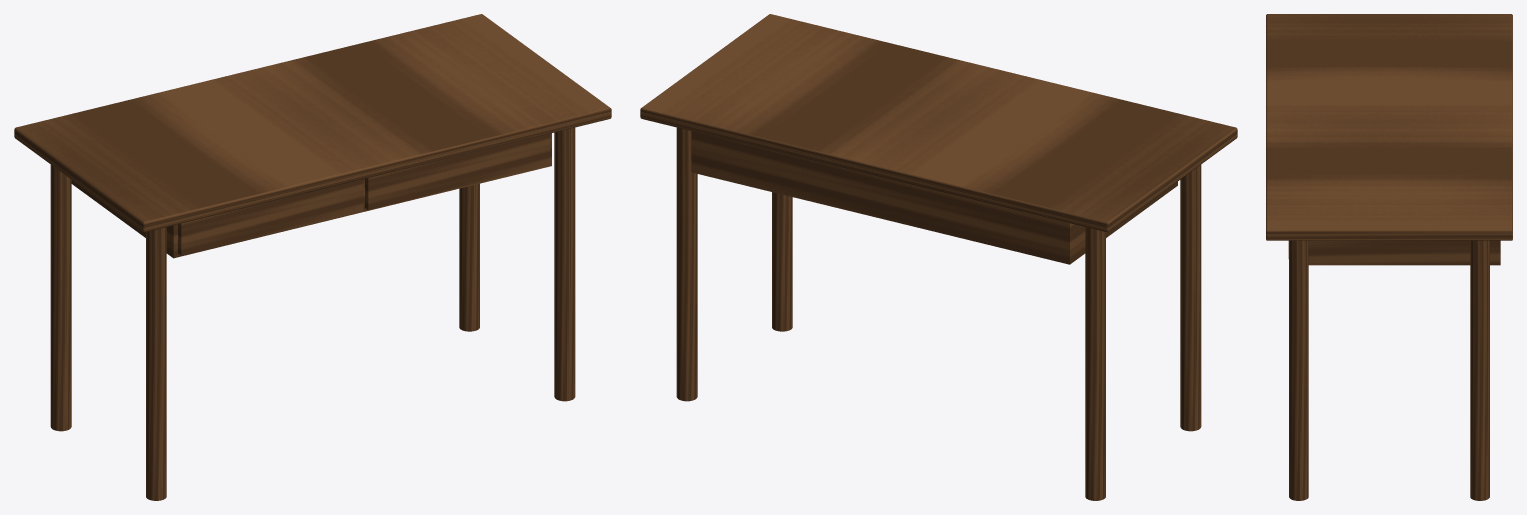
Rendered from desk_4_writing.fbx.
3 views of the same model, side by side, from view 1: azimuth 30°, elevation 25°; view 2: azimuth 150°, elevation 25°; view 3: azimuth 270°, elevation 25° (orthographic). The views are drawn at different scales.
Parts seen in each view (by area): view 1: top, front_1, front_0, leg-11, leg1-1, leg11, leg-1-1, rail; view 2: top, rail, leg-1-1, leg11, leg1-1, leg-11; view 3: top, leg-1-1, leg-11, rail.
Boxes of the visible parts, left/top/right/bottom form: top: left=14, top=14, right=611, bottom=232; front_1: left=178, top=179, right=363, bottom=255; front_0: left=365, top=133, right=550, bottom=209; leg-11: left=554, top=127, right=575, bottom=401; leg1-1: left=50, top=165, right=71, bottom=431; leg11: left=146, top=227, right=166, bottom=500; leg-1-1: left=459, top=183, right=479, bottom=331; rail: left=71, top=133, right=551, bottom=258; top: left=640, top=14, right=1237, bottom=232; rail: left=691, top=131, right=1177, bottom=264; leg-1-1: left=676, top=127, right=697, bottom=401; leg11: left=1180, top=165, right=1201, bottom=431; leg1-1: left=1085, top=227, right=1105, bottom=500; leg-11: left=772, top=192, right=792, bottom=331; top: left=1266, top=14, right=1512, bottom=240; leg-1-1: left=1470, top=240, right=1489, bottom=500; leg-11: left=1289, top=240, right=1308, bottom=500; rail: left=1308, top=240, right=1500, bottom=265.
Size of the model in its own units: 125 by 75 by 60.
3 materials, 2 textured.
